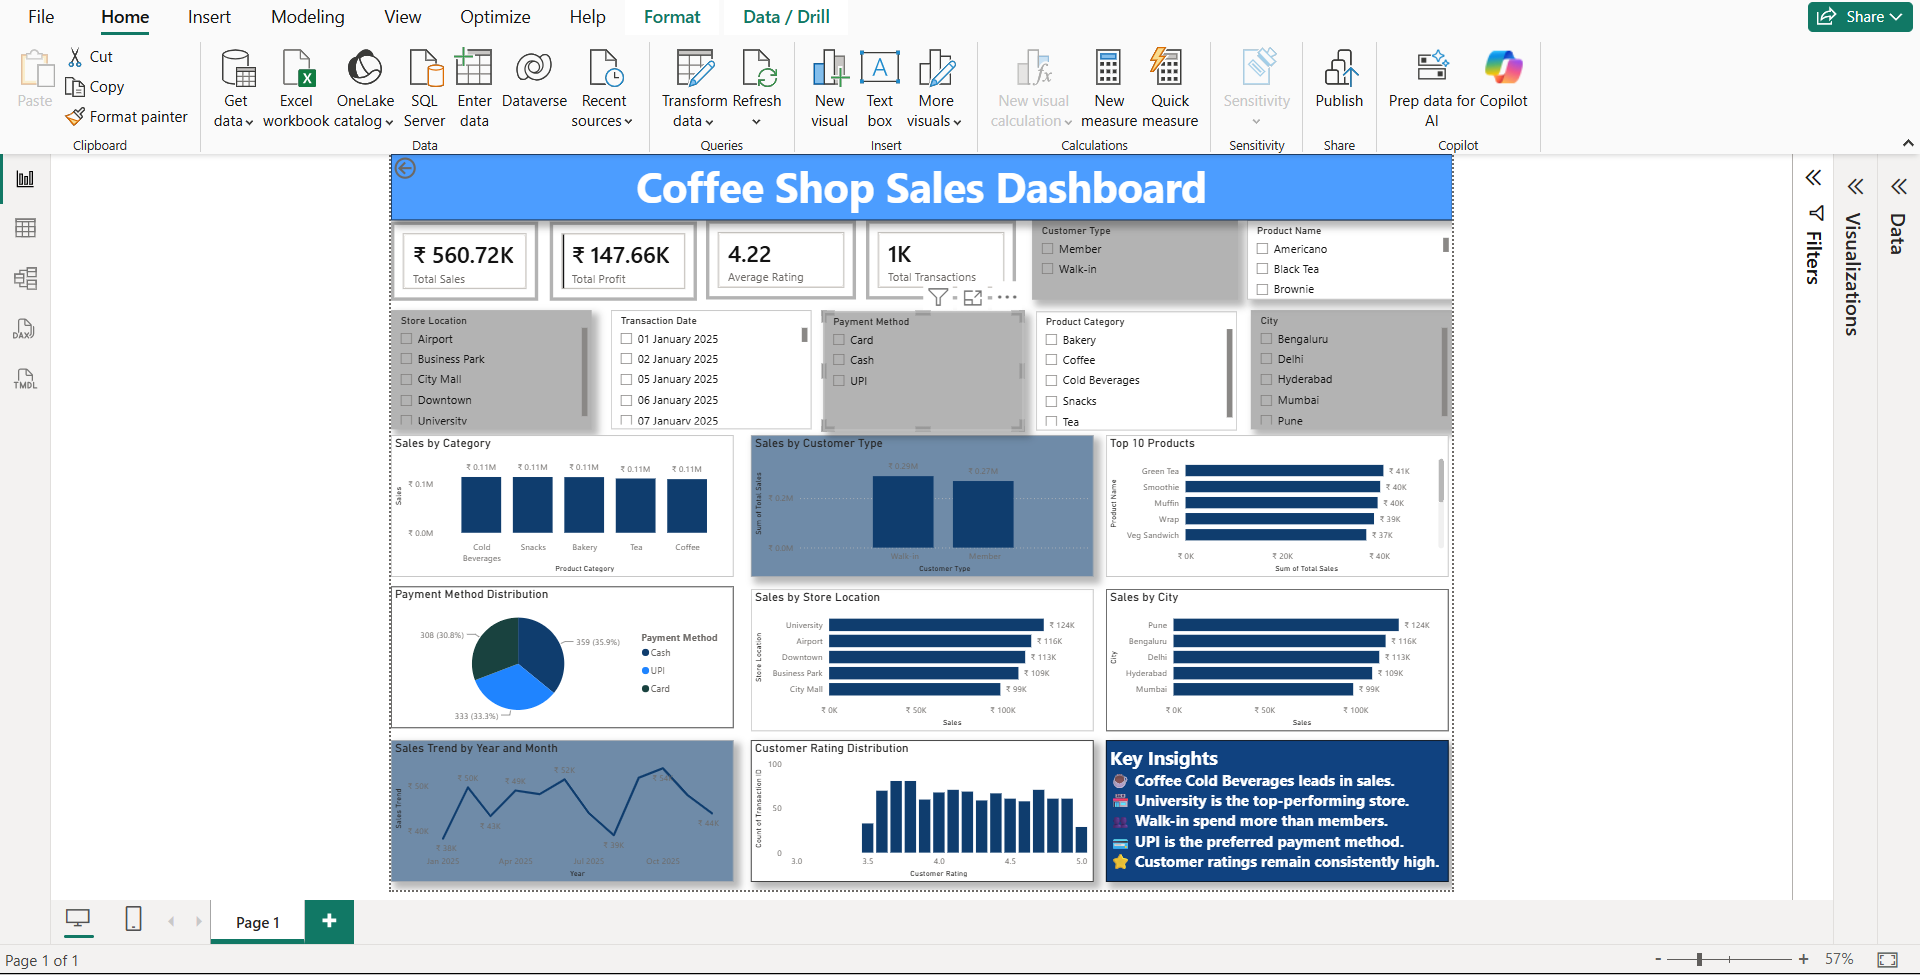

This screenshot's page, from the dashboard's own definition file:
{"tool":"powerbi","page":{"name":"Page 1","canvas":[1500,1040],"ordinal":0},"visuals":[{"type":"cardVisual","fields":{"Data":["Sum(CoffeeShopSales.Total Sales)"]},"box":[0,96,208,112],"z":0},{"type":"cardVisual","fields":{"Data":["Sum(CoffeeShopSales.Profit)"]},"box":[224,96,208,112],"z":1000},{"type":"cardVisual","fields":{"Data":["Avg(CoffeeShopSales.Customer Rating)"]},"box":[445,93.4,212.3,112.1],"z":2000},{"type":"cardVisual","fields":{"Data":["CoffeeShopSales.Total Transactions"]},"box":[670.9,93.4,212.3,112.1],"z":3000},{"type":"slicer","fields":{"Values":["CoffeeShopSales.City"]},"box":[1216,220.8,283.6,168.1],"z":4000},{"type":"slicer","fields":{"Values":["CoffeeShopSales.Store Location"]},"box":[0,220.8,283,168.1],"z":5000},{"type":"slicer","fields":{"Values":["CoffeeShopSales.Product Category"]},"box":[912,222.5,283.6,168.1],"z":6000},{"type":"slicer","fields":{"Values":["CoffeeShopSales.Customer Type"]},"box":[905.2,93.4,290.4,112.1],"z":7000},{"type":"slicer","fields":{"Values":["CoffeeShopSales.Payment Method"]},"box":[611.4,222.5,283,168.1],"z":8000},{"type":"slicer","fields":{"Values":["CoffeeShopSales.Product Name"]},"box":[1209.2,93.4,290.4,112.1],"z":9000},{"type":"slicer","fields":{"Values":["CoffeeShopSales.Transaction Date"]},"box":[310.8,220.8,283,168.1],"z":10000},{"type":"lineChart","fields":{"Y":["Sum(CoffeeShopSales.Total Sales)"],"Category":["CoffeeShopSales.Transaction Date.Variation.Date Hierarchy.Year","CoffeeShopSales.Transaction Date.Variation.Date Hierarchy.Month"]},"box":[0,829.2,484,200],"z":11000},{"type":"clusteredBarChart","fields":{"Y":["Sum(CoffeeShopSales.Total Sales)"],"Category":["CoffeeShopSales.City"]},"box":[1010.5,614.8,484,200.4],"z":12000},{"type":"clusteredBarChart","fields":{"Category":["CoffeeShopSales.Store Location"],"Y":["Sum(CoffeeShopSales.Total Sales)"]},"box":[507.8,614.8,484,200.4],"z":13000},{"type":"clusteredColumnChart","title":"Sales by Category","fields":{"Category":["CoffeeShopSales.Product Category"],"Y":["Sum(CoffeeShopSales.Total Sales)"]},"box":[0,397.4,484,200],"z":14000},{"type":"clusteredBarChart","title":"Top 10 Products","fields":{"Y":["Sum(CoffeeShopSales.Total Sales)"],"Category":["CoffeeShopSales.Product Name"]},"box":[1010.5,397.4,484,200],"z":15000},{"type":"pieChart","title":"Payment Method Distribution","fields":{"Category":["CoffeeShopSales.Payment Method"],"Y":["CountNonNull(CoffeeShopSales.Transaction ID)"]},"box":[0,611.4,484,200],"z":16000},{"type":"columnChart","title":" Sales by Customer Type","fields":{"Category":["CoffeeShopSales.Customer Type"],"Y":["Sum(CoffeeShopSales.Total Sales)"]},"box":[507.8,397.4,484,200],"z":17000},{"type":"textbox","box":[0,0,1499.7,93.4],"z":18000},{"type":"columnChart","title":"Customer Rating Distribution","fields":{"Category":["CoffeeShopSales.Customer Rating"],"Y":["CountNonNull(CoffeeShopSales.Transaction ID)"]},"box":[508,829,484,200],"z":19000},{"type":"textbox","box":[1011,829,484,200],"z":20000},{"type":"actionButton","box":[0,0,100,40],"z":20001}]}

Visuals, with their boxes on the page's 1500x1040 design canvas (x1, y1, x2, y2). These are canvas units, not pixel positions in the 1920x975 screenshot, which may show the page scaled, cropped or inside an application window:
cardVisual - Sum(CoffeeShopSales.Total Sales): x1=0 y1=96 x2=208 y2=208
cardVisual - Sum(CoffeeShopSales.Profit): x1=224 y1=96 x2=432 y2=208
cardVisual - Avg(CoffeeShopSales.Customer Rating): x1=445 y1=93 x2=657 y2=206
cardVisual - CoffeeShopSales.Total Transactions: x1=671 y1=93 x2=883 y2=206
slicer - CoffeeShopSales.City: x1=1216 y1=221 x2=1500 y2=389
slicer - CoffeeShopSales.Store Location: x1=0 y1=221 x2=283 y2=389
slicer - CoffeeShopSales.Product Category: x1=912 y1=222 x2=1196 y2=391
slicer - CoffeeShopSales.Customer Type: x1=905 y1=93 x2=1196 y2=206
slicer - CoffeeShopSales.Payment Method: x1=611 y1=222 x2=894 y2=391
slicer - CoffeeShopSales.Product Name: x1=1209 y1=93 x2=1500 y2=206
slicer - CoffeeShopSales.Transaction Date: x1=311 y1=221 x2=594 y2=389
lineChart - Sum(CoffeeShopSales.Total Sales) x CoffeeShopSales.Transaction Date.Variation.Date Hierarchy.Year: x1=0 y1=829 x2=484 y2=1029
clusteredBarChart - Sum(CoffeeShopSales.Total Sales) x CoffeeShopSales.City: x1=1010 y1=615 x2=1494 y2=815
clusteredBarChart - CoffeeShopSales.Store Location x Sum(CoffeeShopSales.Total Sales): x1=508 y1=615 x2=992 y2=815
"Sales by Category" clusteredColumnChart: x1=0 y1=397 x2=484 y2=597
"Top 10 Products" clusteredBarChart: x1=1010 y1=397 x2=1494 y2=597
"Payment Method Distribution" pieChart: x1=0 y1=611 x2=484 y2=811
" Sales by Customer Type" columnChart: x1=508 y1=397 x2=992 y2=597
textbox: x1=0 y1=0 x2=1500 y2=93
"Customer Rating Distribution" columnChart: x1=508 y1=829 x2=992 y2=1029
textbox: x1=1011 y1=829 x2=1495 y2=1029
actionButton: x1=0 y1=0 x2=100 y2=40
